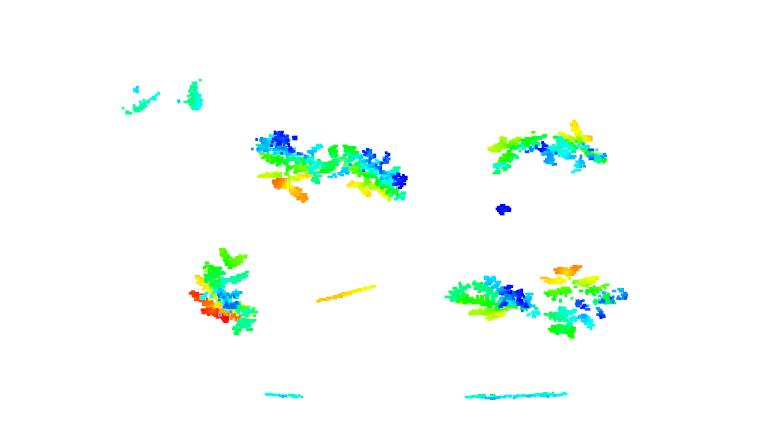chickpea: (536, 260, 631, 340), (189, 244, 260, 337), (250, 129, 326, 207), (324, 141, 416, 204), (446, 273, 542, 323), (546, 119, 610, 175), (481, 129, 553, 176)
